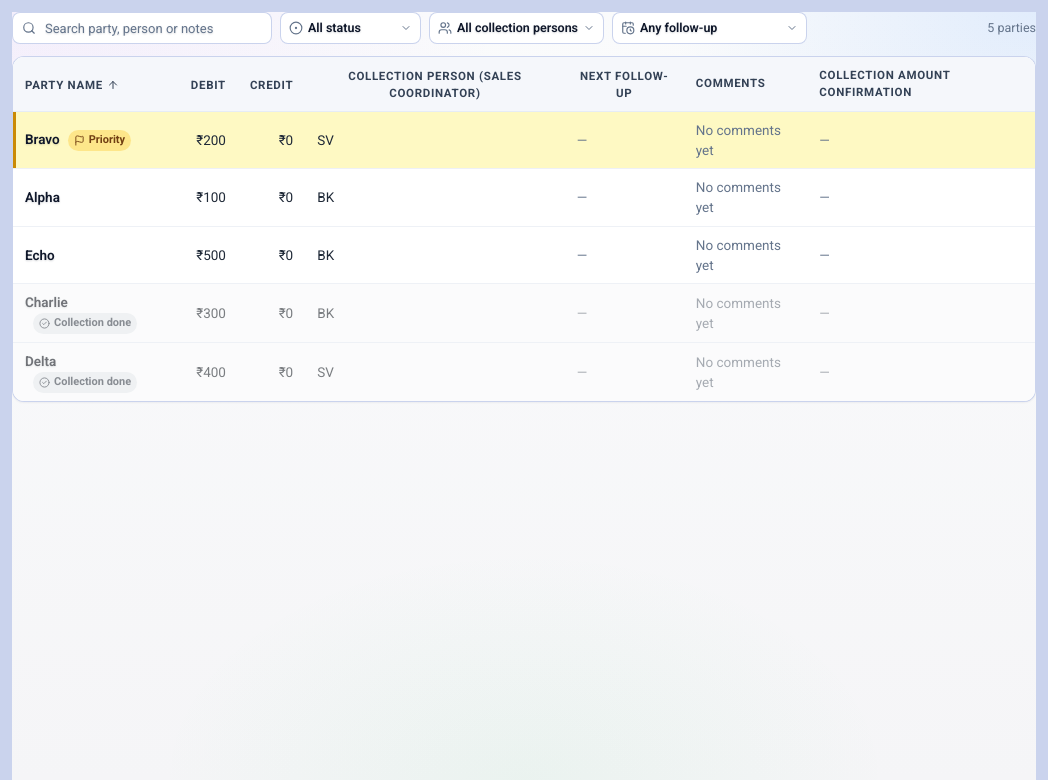
Scenario: groups, styling and the Status filter (for every Tracker user) › the Status chip narrows to one group and works together with Collection person and the search
Later steps or results of the test are not shown.
Expected: the 2nd element named "Status" is shown, top-left (280, 12), bottom-right (421, 44)
Step 1. Select "Collection done" in the dropdown named "Status" → [362, 28], box top-left (308, 13), bottom-right (416, 43)
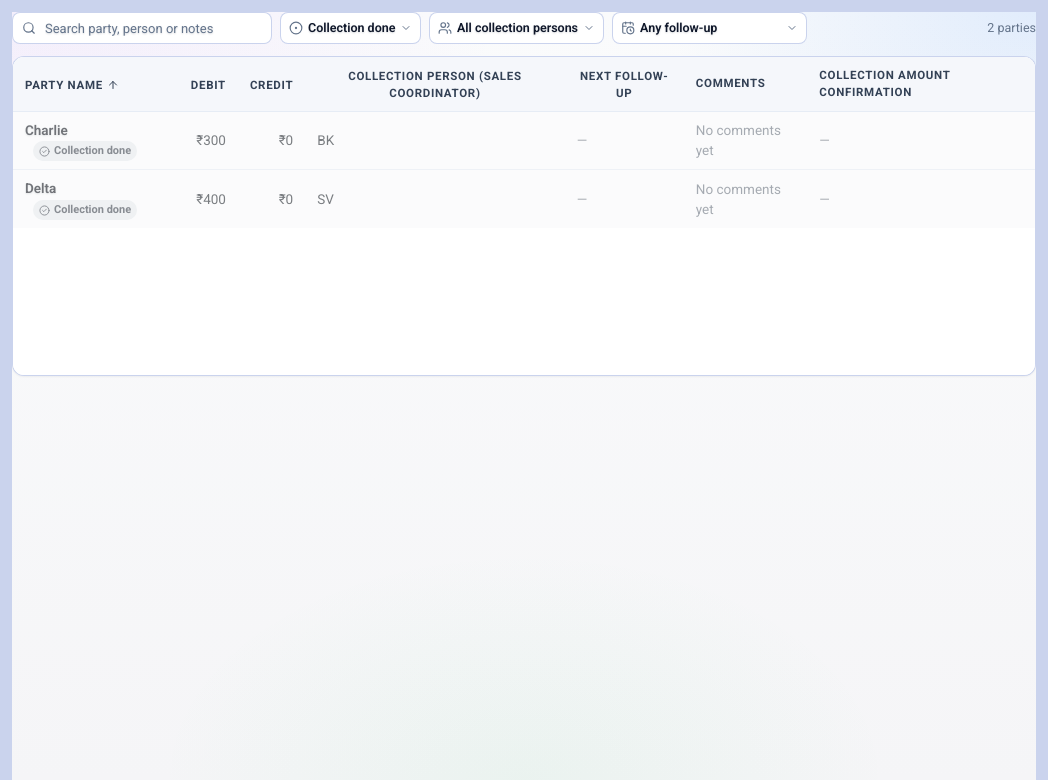
Step 2. Select "SV" in the dropdown named "Collection person" → [528, 28], box top-left (457, 13), bottom-right (599, 43)
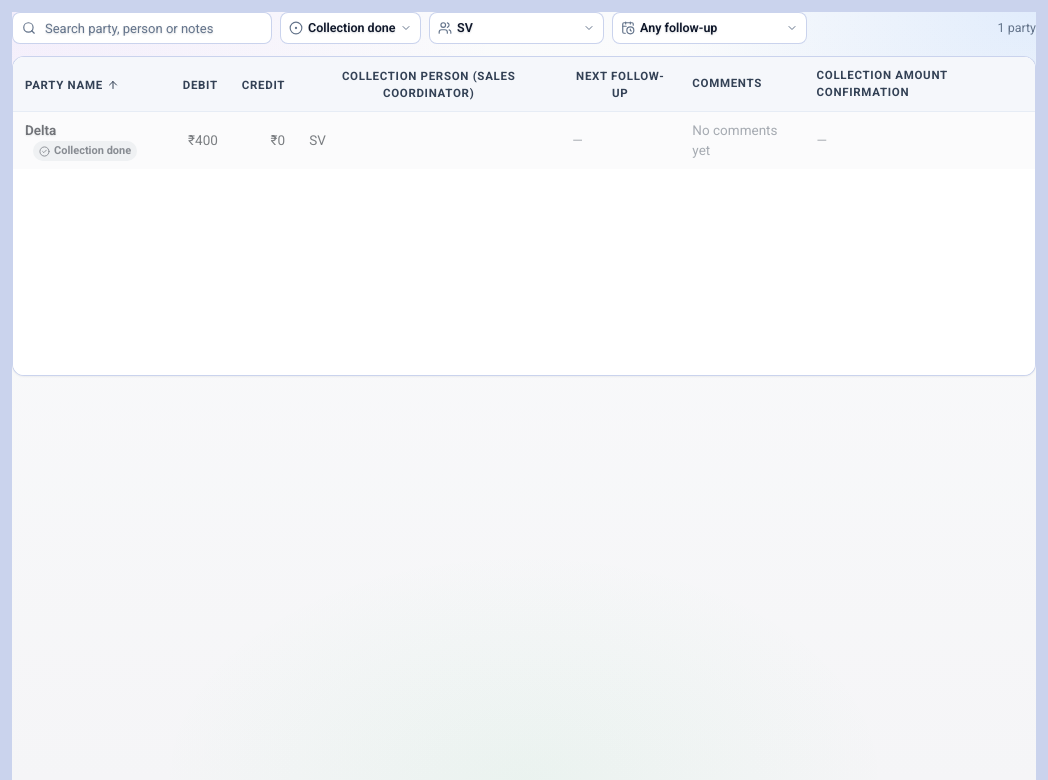
Step 3. Select "Pending" in the dropdown named "Status" → [362, 28], box top-left (308, 13), bottom-right (416, 43)
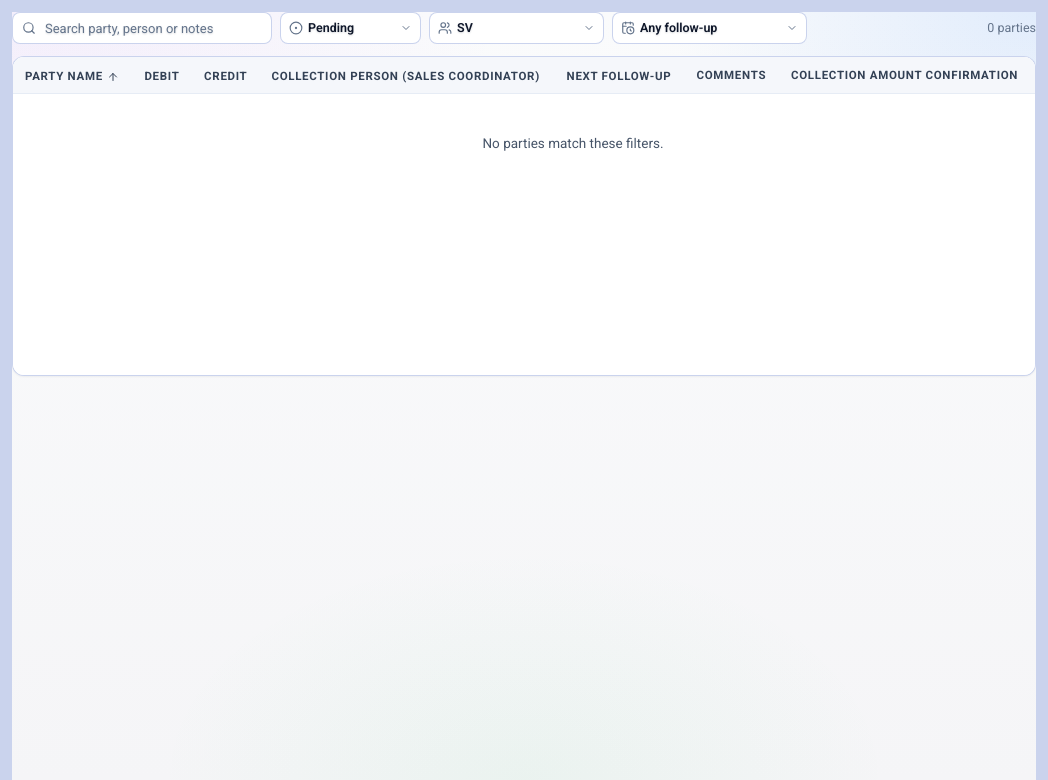
Now the text "No parties match these filters." is shown, box top-left (13, 93), bottom-right (1036, 194)
